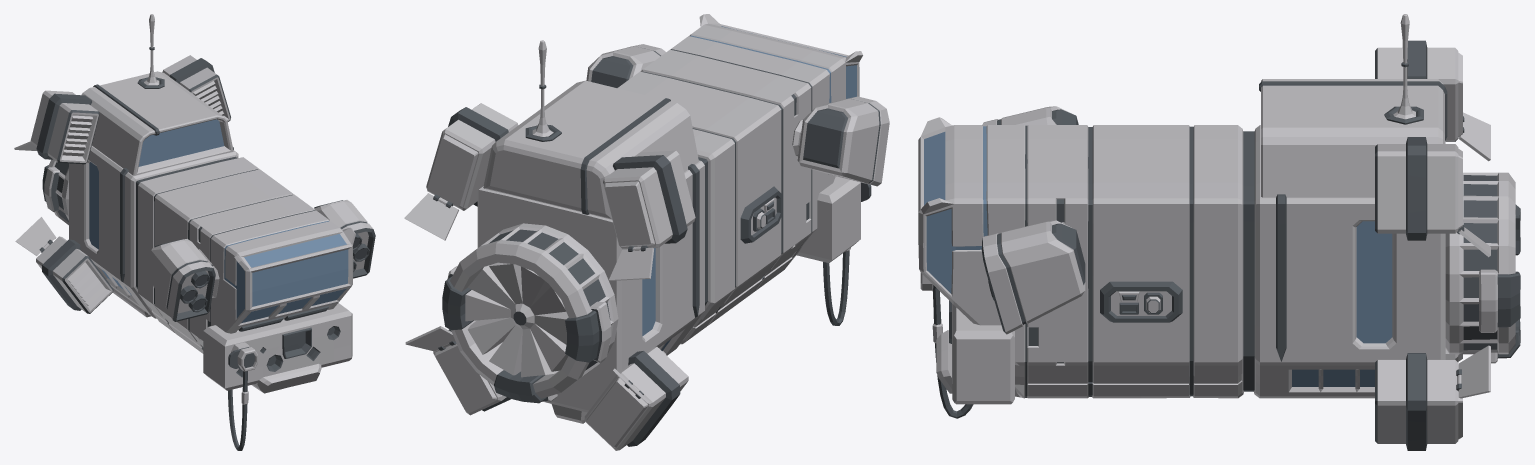
The model's file is Dropship_02_Neutral.fbx.
The picture shows the model from 3 angles, left to right: view 1: azimuth 30°, elevation 25°; view 2: azimuth 150°, elevation 25°; view 3: azimuth 270°, elevation 25°; orthographic projection. The views are drawn at different scales.
Parts seen in each view (by area): view 1: Dropship_02_Neutral; view 2: Dropship_02_Neutral; view 3: Dropship_02_Neutral.
Part boxes in pixels (x1,y1,x2,y2): Dropship_02_Neutral: [14, 14, 375, 450]; Dropship_02_Neutral: [404, 14, 889, 450]; Dropship_02_Neutral: [918, 14, 1520, 450].
Bounding box in the file's own units: 798 × 1194 × 1443.
3 materials, 3 textured.
